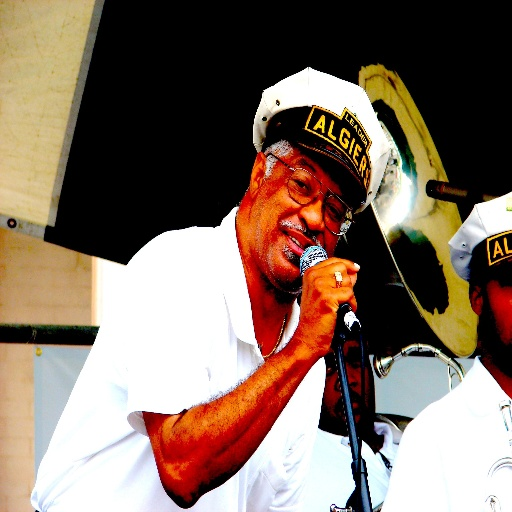hand: (295, 258, 364, 369)
